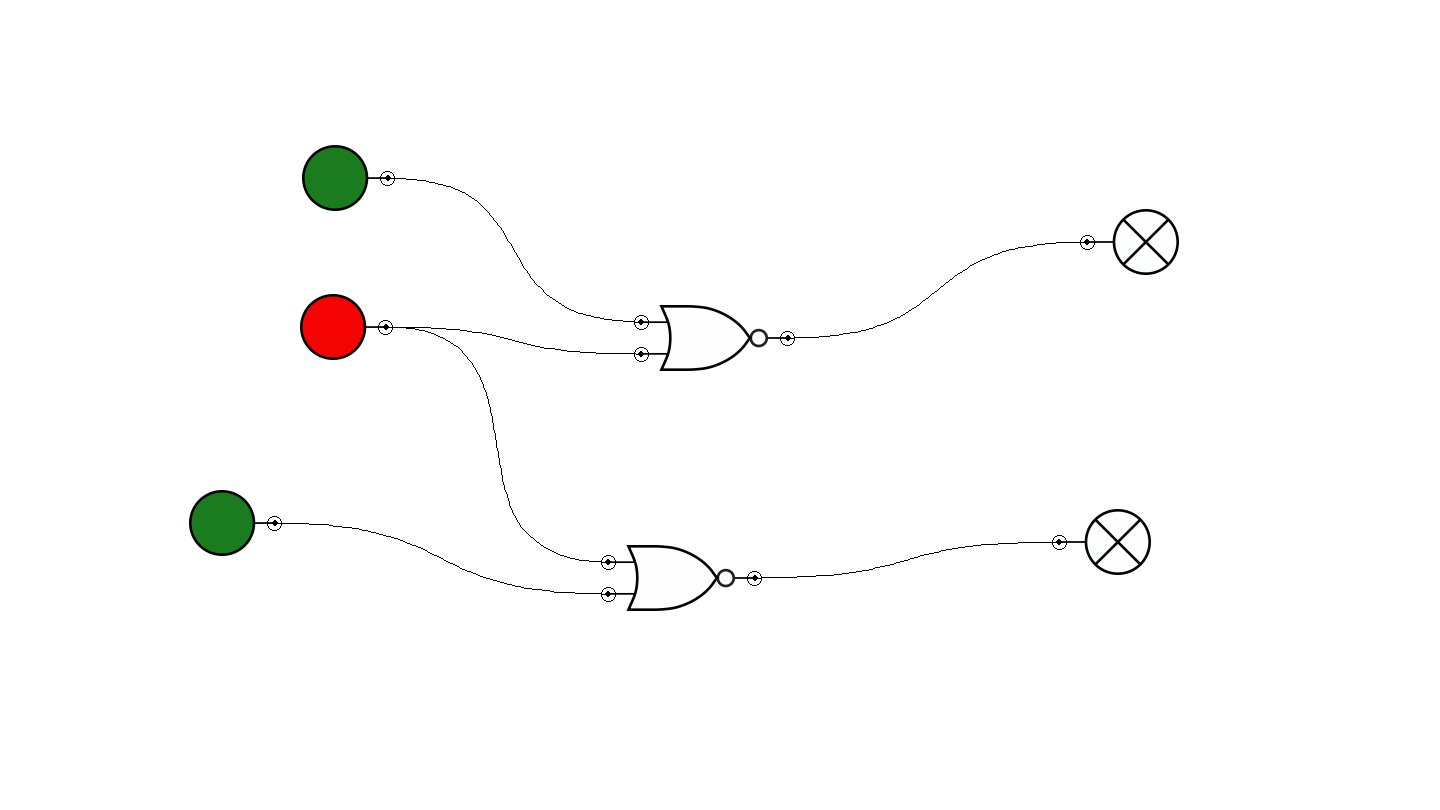bulb: (1052, 509, 1151, 575), (1080, 209, 1179, 275)
nor: (601, 545, 762, 611), (634, 305, 795, 371)
switch_False: (300, 294, 393, 360)
switch_True: (189, 490, 282, 556), (302, 145, 395, 211)
